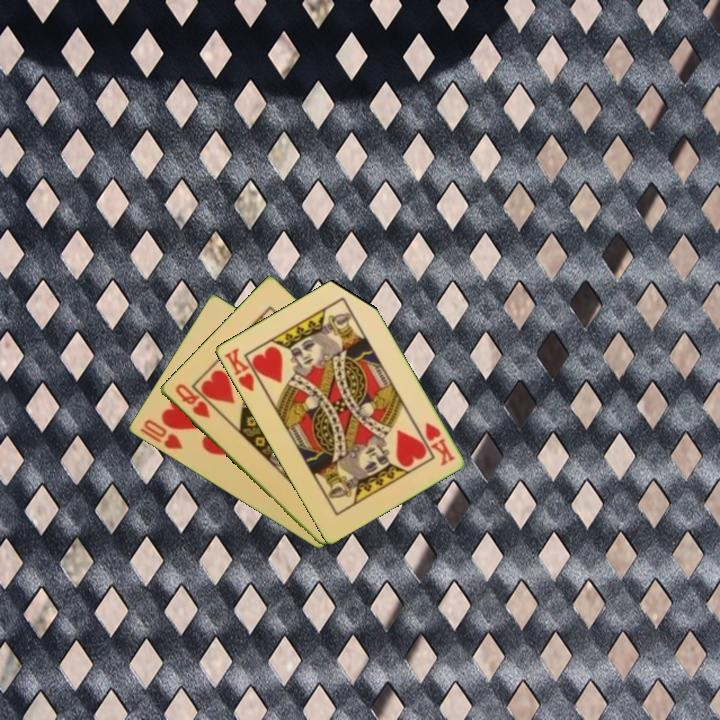10h: (136, 416, 185, 452)
Kh: (220, 344, 265, 395), (421, 419, 457, 469)
Qh: (171, 380, 213, 421)
